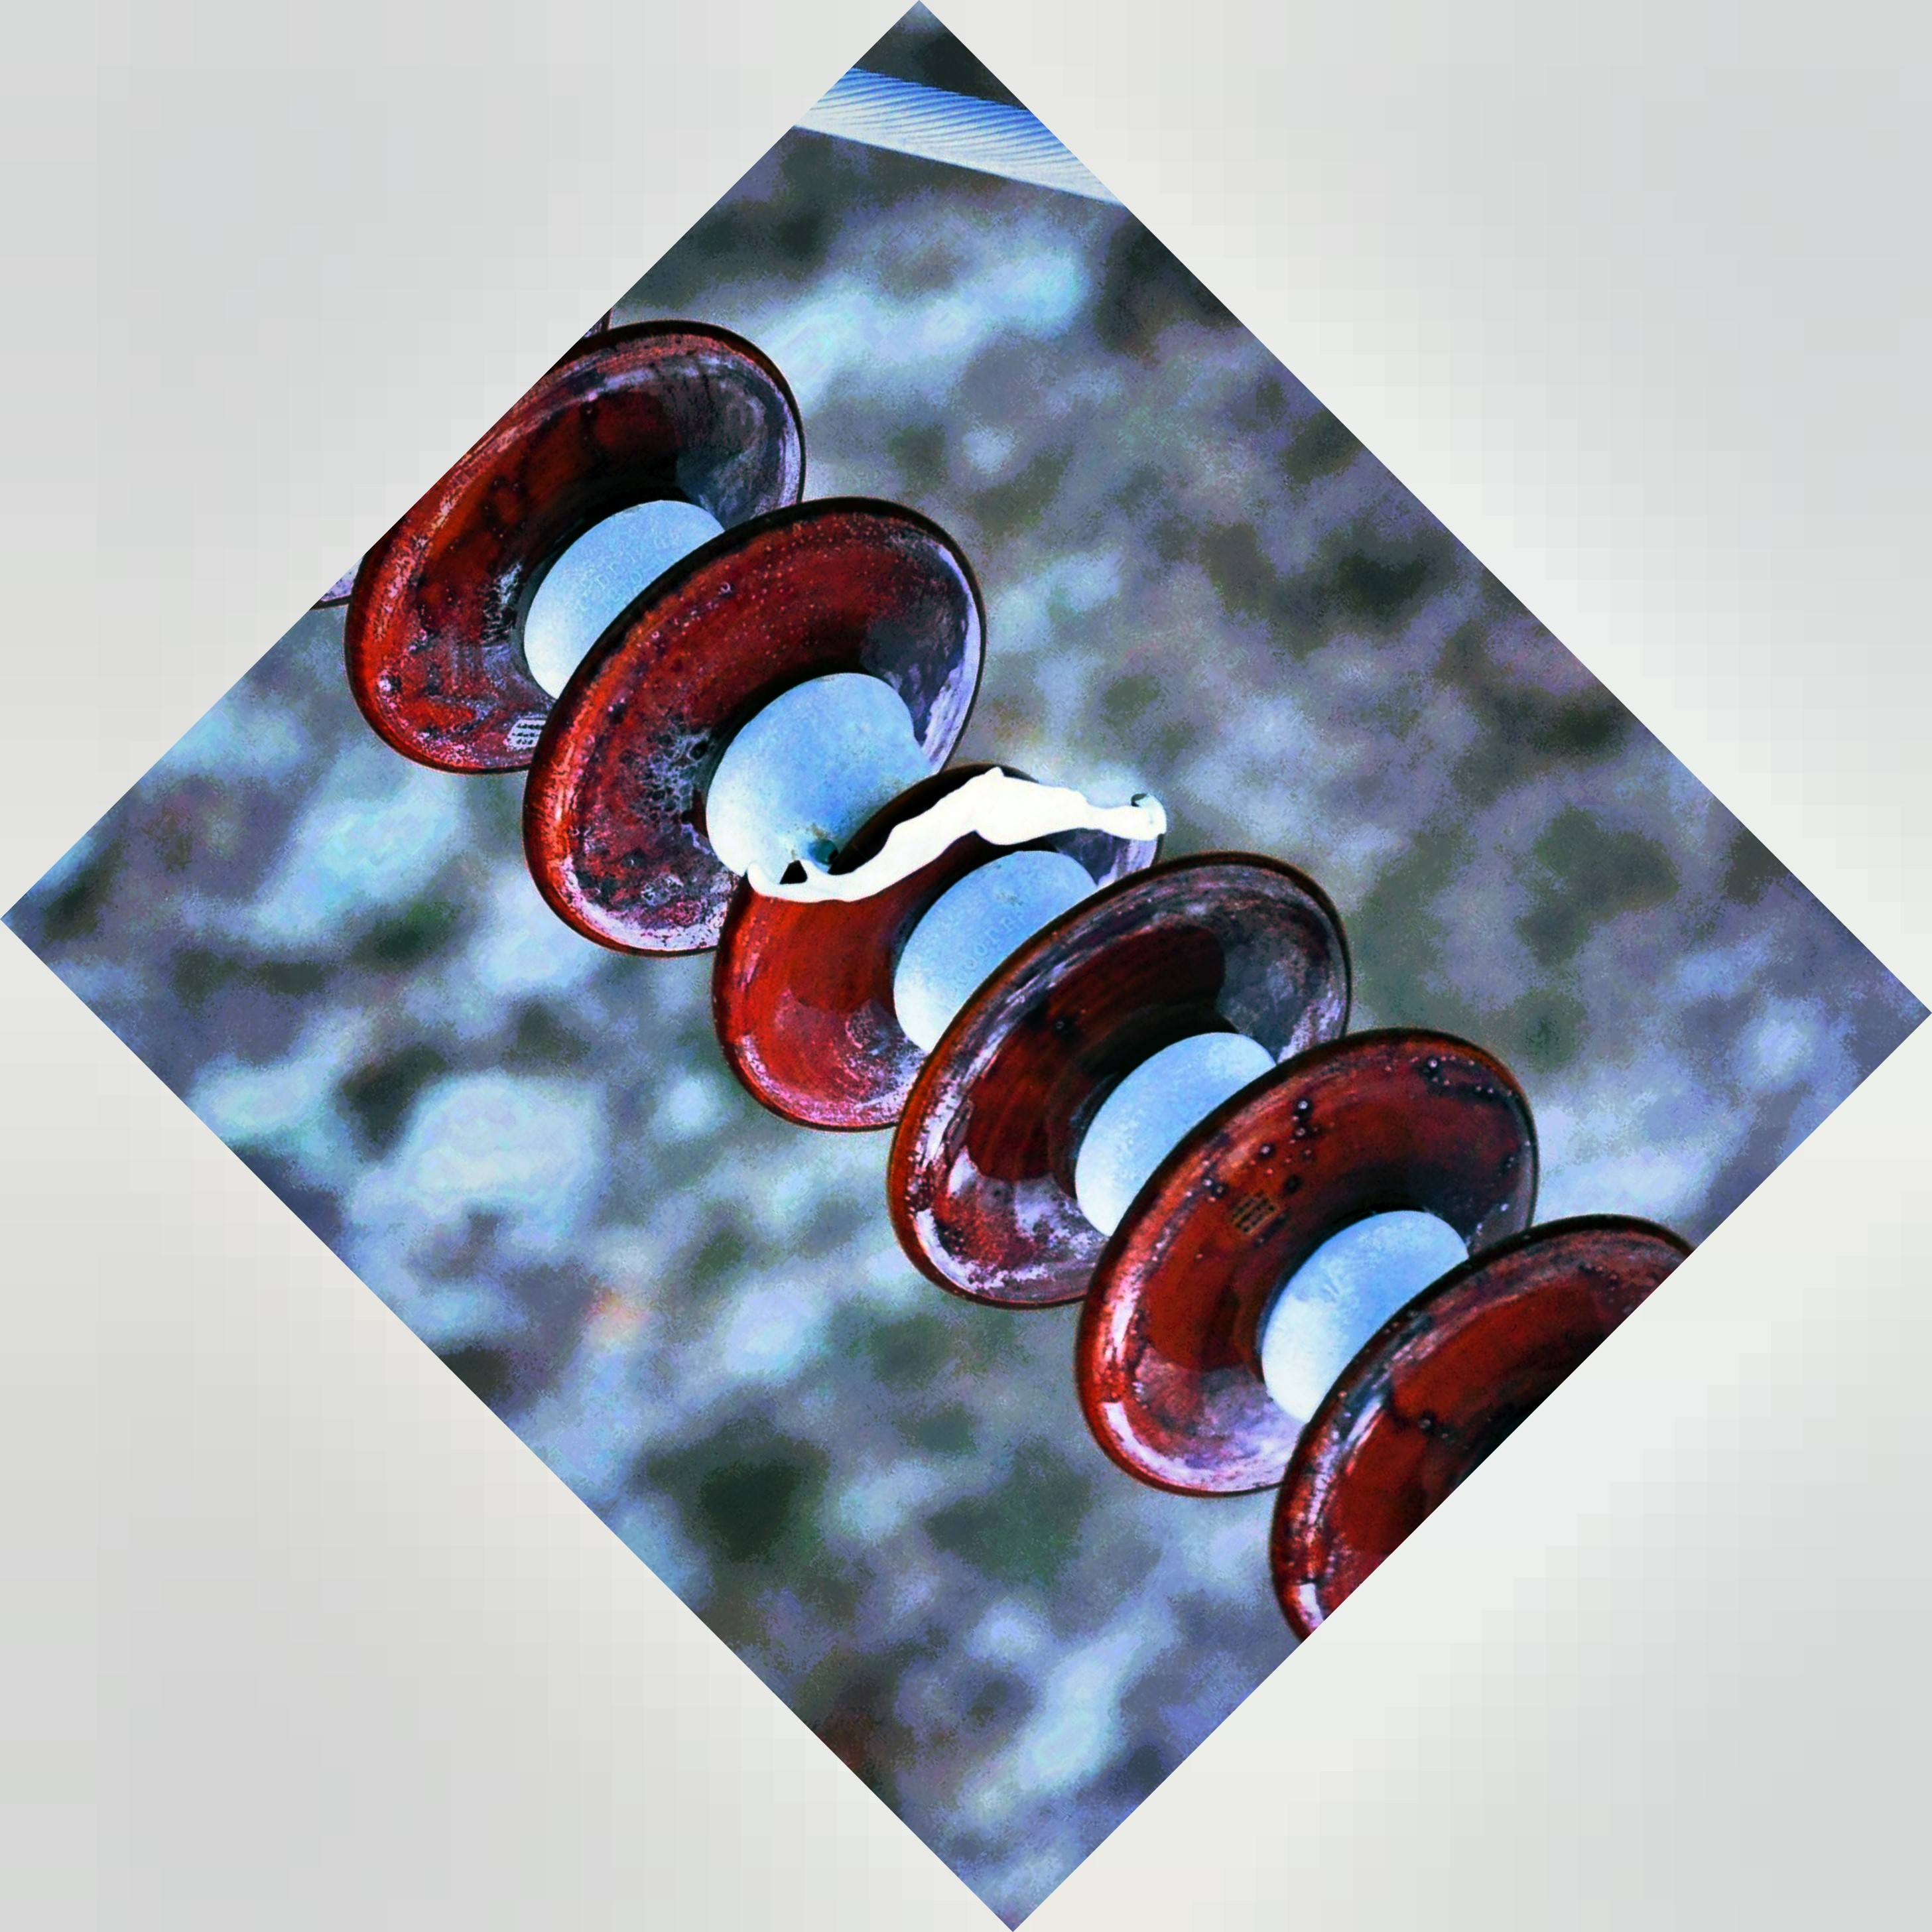insulator breakage: (692, 755, 1198, 1143)
